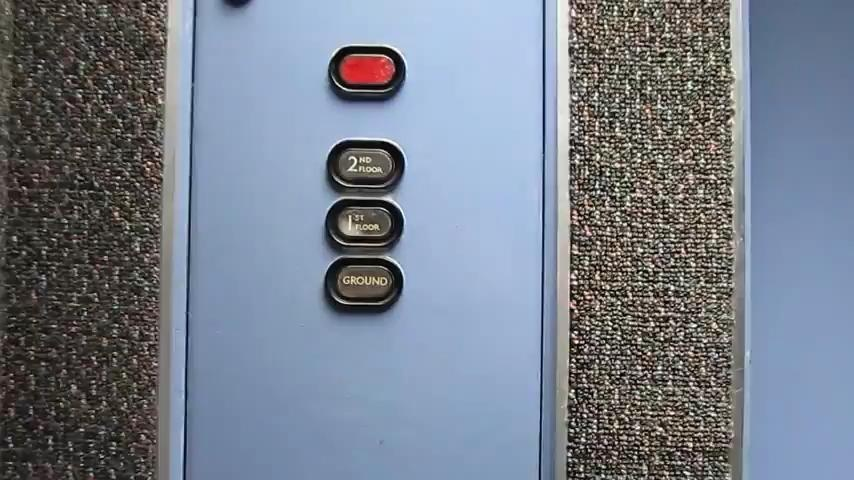1: (323, 194, 406, 249)
2: (322, 135, 406, 192)
empty: (326, 42, 407, 99)
text_GROUND: (324, 254, 407, 313)
